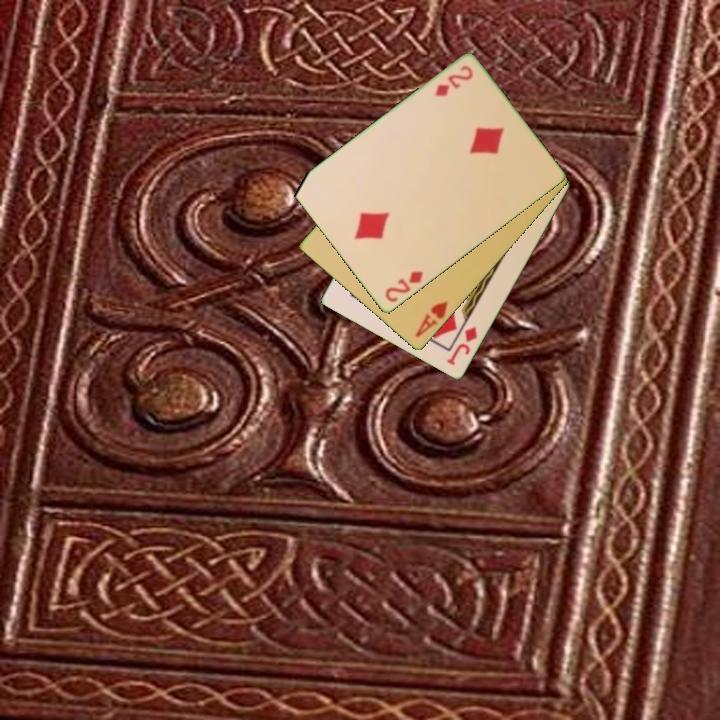2d: (431, 62, 476, 100), (381, 268, 426, 305)
Ah: (412, 298, 451, 341)
Jd: (443, 323, 480, 369)
